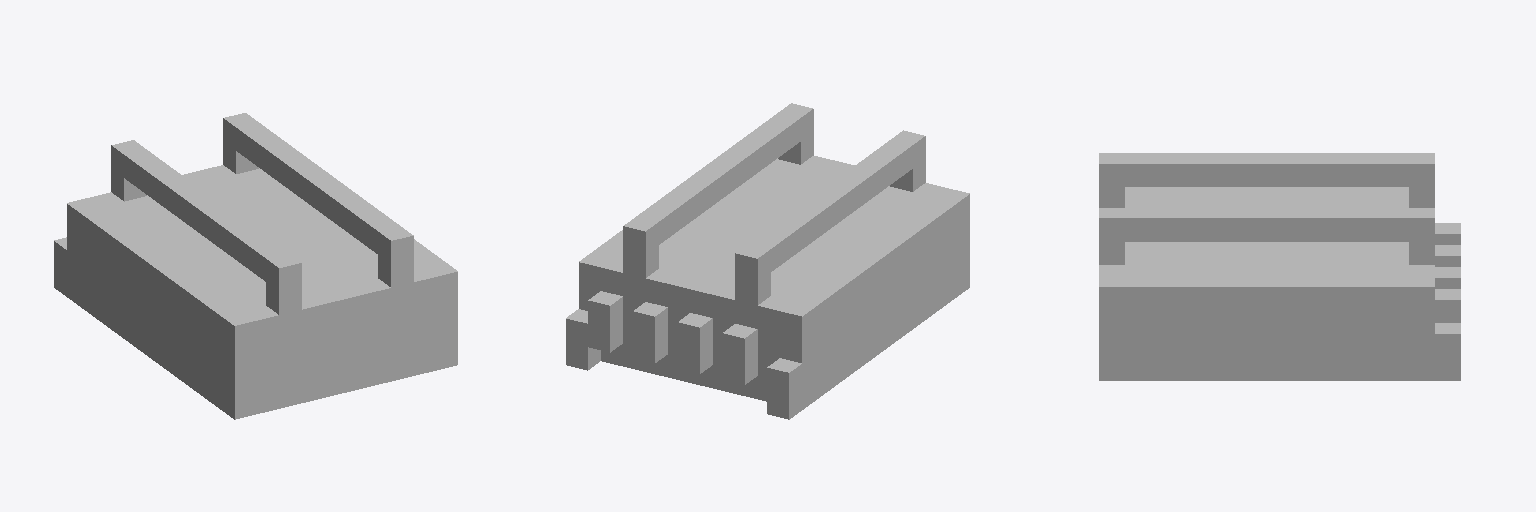
Rendered from fluorescent_lamp.obj.
The picture shows the model from 3 angles: view 1: azimuth 30°, elevation 25°; view 2: azimuth 150°, elevation 25°; view 3: azimuth 270°, elevation 25°; orthographic projection.
Bounding box in the file's own units: 0.625 × 0.375 × 0.875.